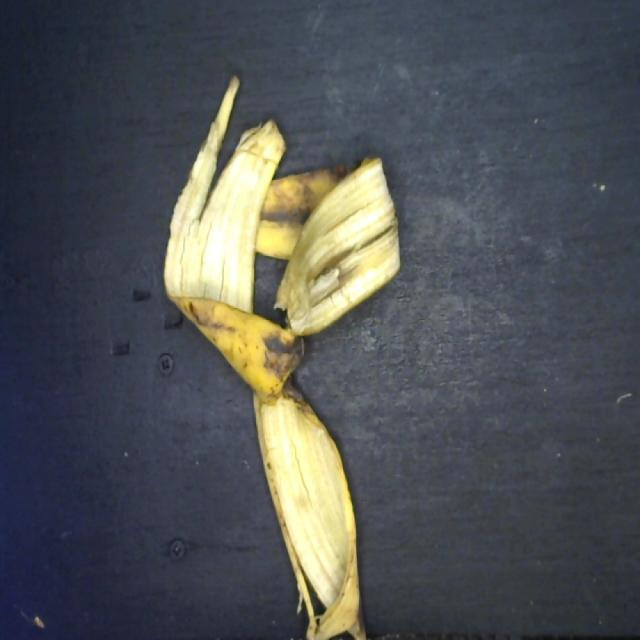biodegradable: (157, 71, 407, 640)
